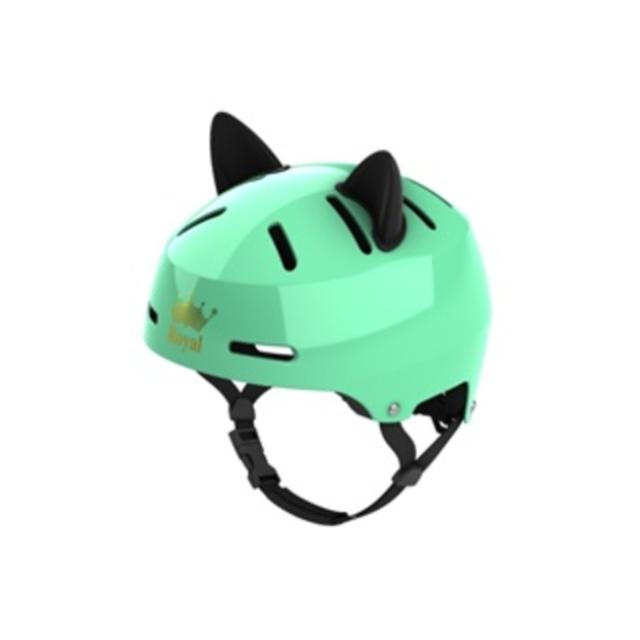Helmet: (134, 105, 502, 530)
